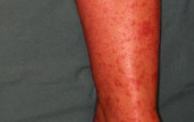SJS-TEN: (91, 0, 163, 122)
